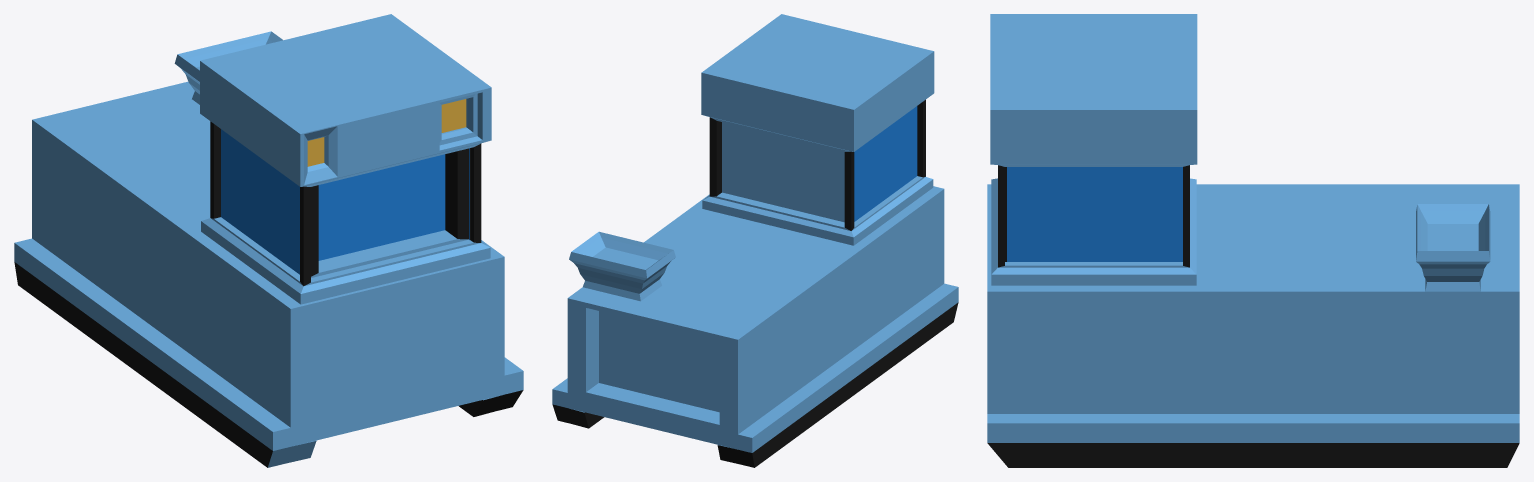
Rendered from tanker.fbx.
The picture shows the model from 3 angles, left to right: view 1: azimuth 30°, elevation 25°; view 2: azimuth 150°, elevation 25°; view 3: azimuth 270°, elevation 25°; orthographic projection. The views are drawn at different scales.
Parts seen in each view (by area): view 1: Cube; view 2: Cube; view 3: Cube.
Part boxes in pixels (x1=…): Cube: x1=14, y1=14, x2=523, y2=467; Cube: x1=552, y1=14, x2=958, y2=467; Cube: x1=987, y1=14, x2=1519, y2=467.
Size of the model in its own units: 381 by 485 by 681.
